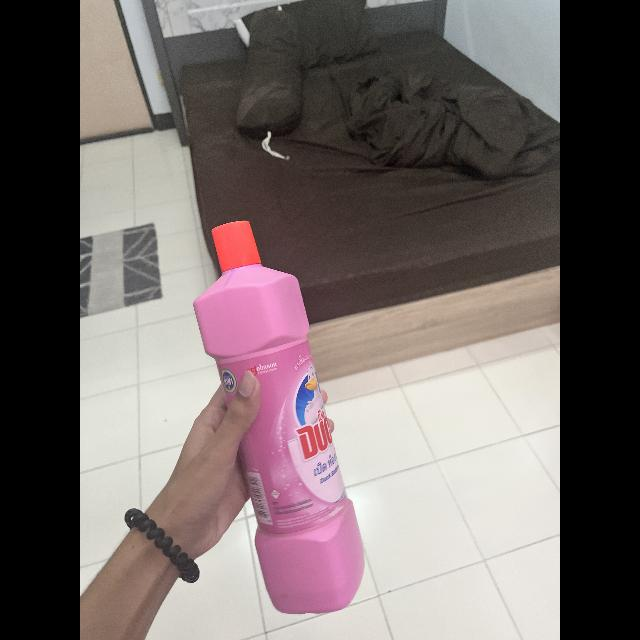chemical_plastic_bottle: (192, 218, 364, 612)
